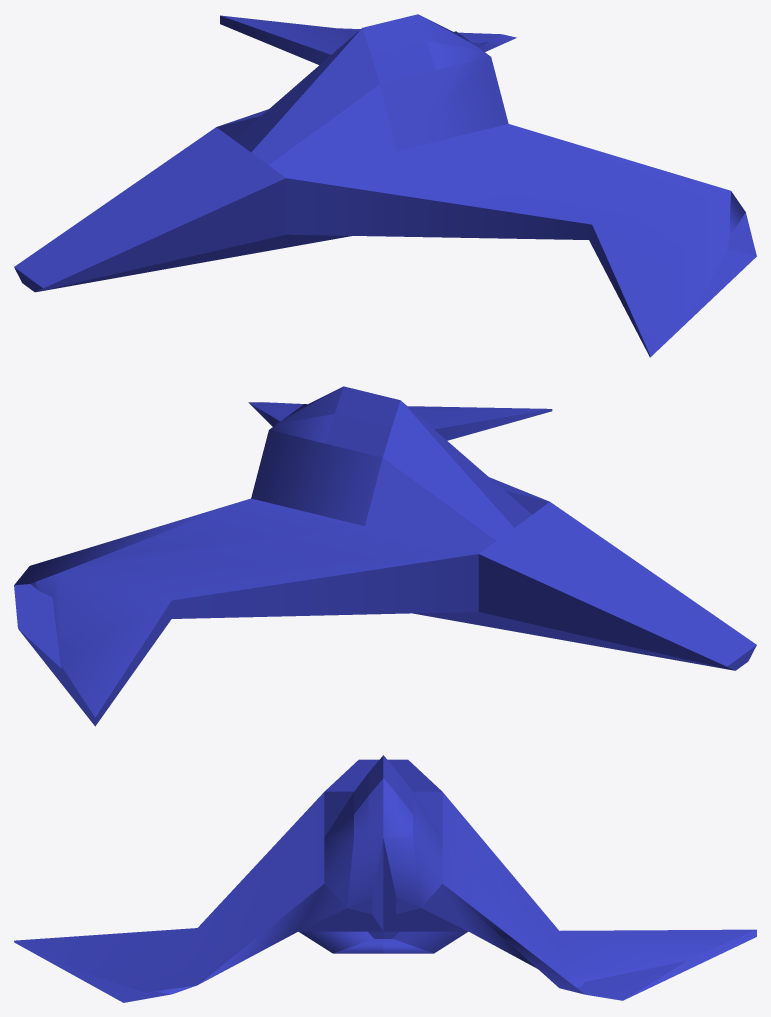
File: ship1.fbx
3 renders of one model, top to bottom at view 1: azimuth 30°, elevation 25°; view 2: azimuth 150°, elevation 25°; view 3: azimuth 270°, elevation 25°, orthographic. The views are drawn at different scales.
Visible parts, largest first — view 1: pCube1; view 2: pCube1; view 3: pCube1.
Boxes of the visible parts, x1,y1,x2,y2 form: pCube1: (14,14,756,357); pCube1: (14,386,756,726); pCube1: (14,755,756,1002).
Size of the model in its own units: 10.13 by 3.06 by 13.
Materials: 1 (1 with a texture image).
